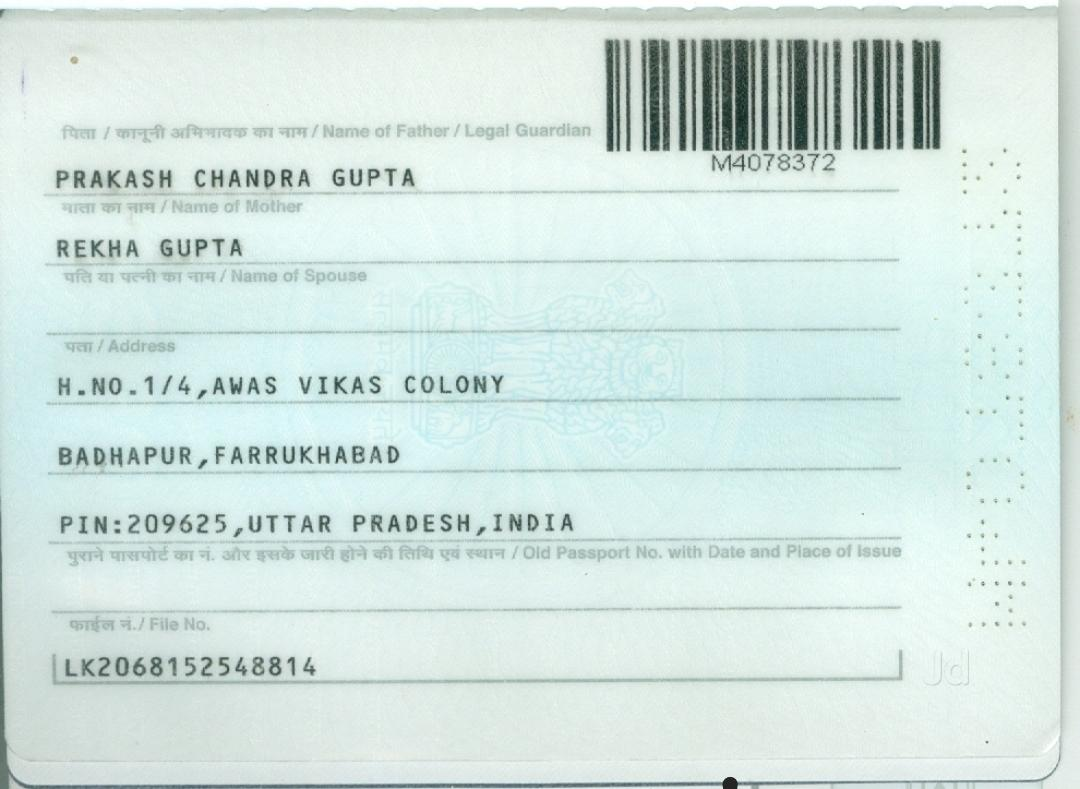File_no: (59, 653, 336, 693)
address: (40, 366, 614, 539)
father_name: (40, 149, 432, 200)
mother_name: (50, 229, 257, 272)
passport_no: (683, 144, 844, 181)
